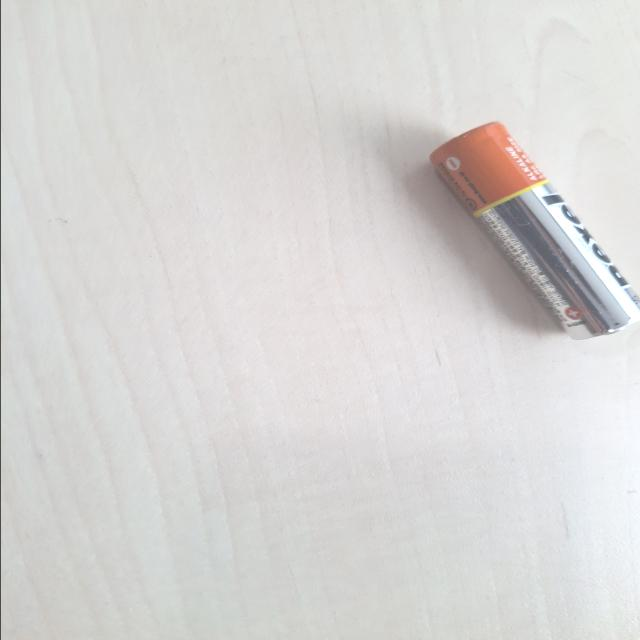AA: (0, 0, 238, 158)
